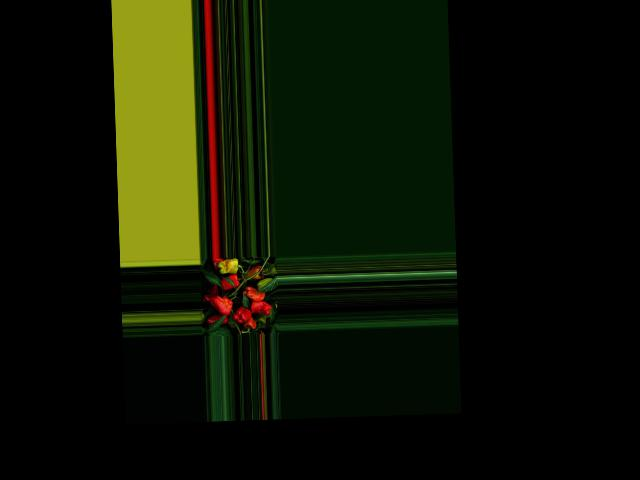bell_pepper: (246, 317, 256, 331)
